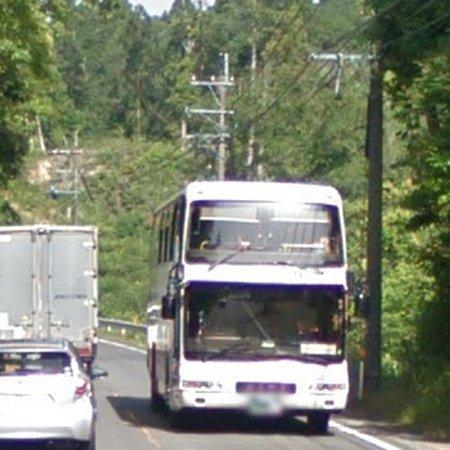buses: (147, 181, 350, 432)
